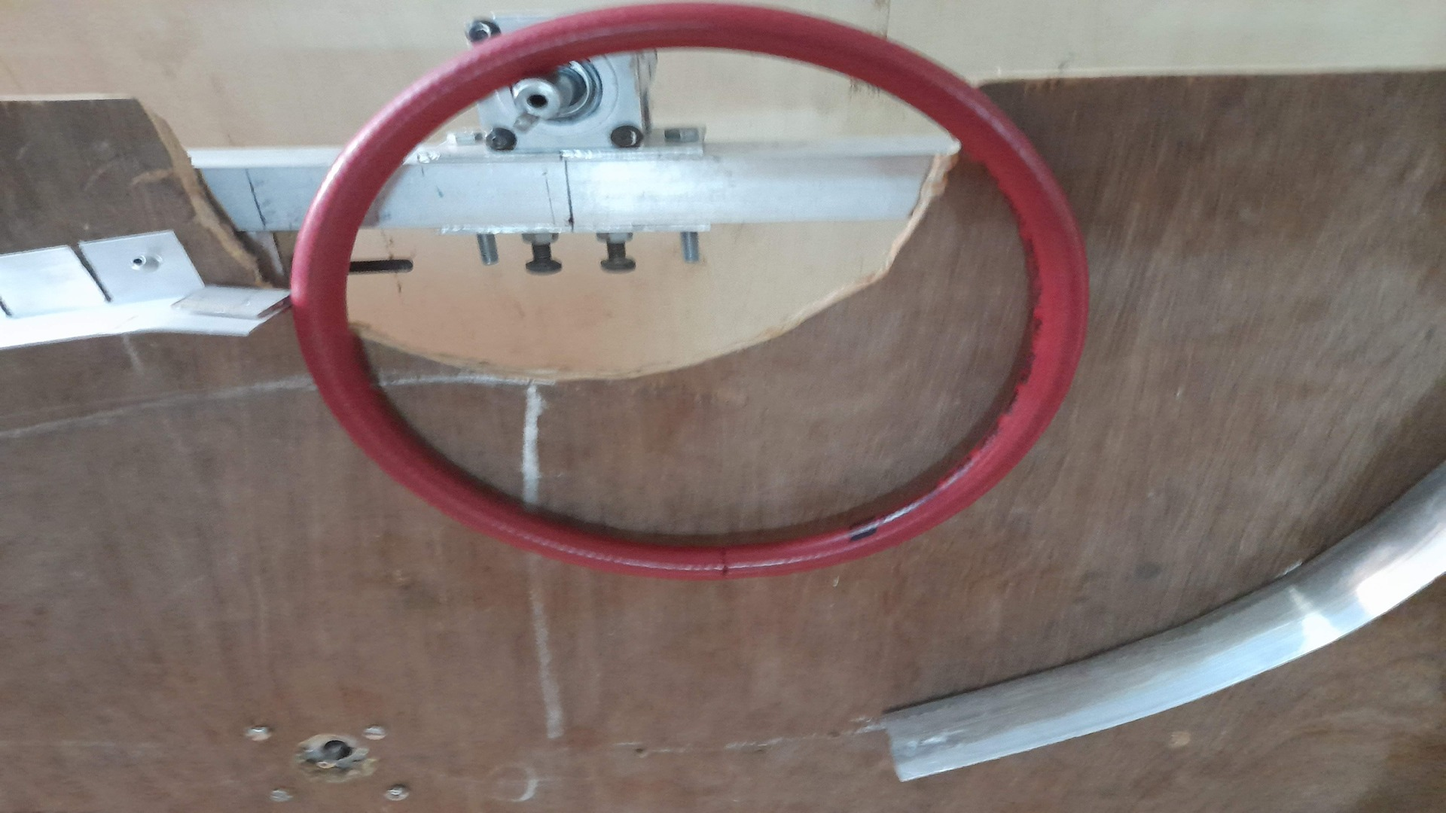Red ring: (288, 8, 1084, 577)
